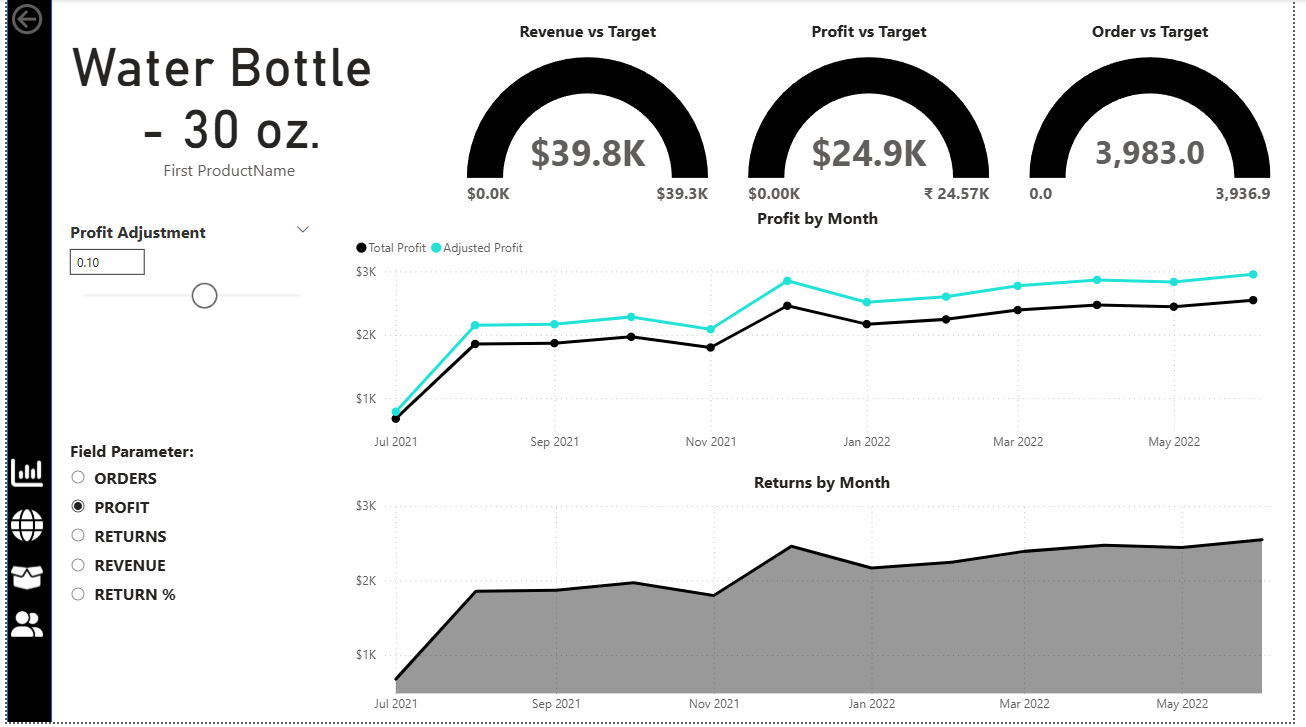

The page's visual inventory and layout, read from the dashboard file:
{"tool":"powerbi","page":{"name":"Product Detail","canvas":[1280,720],"ordinal":2},"visuals":[{"type":"shape","box":[0,0,44.9,720.5],"z":0},{"type":"gauge","title":"Revenue vs Target","fields":{"Y":["Measure Table.Total Revenue"],"MaxValue":["Measure Table.Revenue Target"]},"box":[452.8,19.9,250,206.5],"z":1000},{"type":"actionButton","box":[0,0,100,40],"z":2000},{"type":"gauge","title":"Order vs Target","fields":{"Y":["Measure Table.Total Orders"],"MaxValue":["Measure Table.Order Target"]},"box":[1012.6,19.9,250,206.5],"z":3000},{"type":"gauge","title":"Profit vs Target","fields":{"Y":["Measure Table.Total Profit"],"MaxValue":["Measure Table.Profit Target"]},"box":[732.7,19.9,250,206.5],"z":4000},{"type":"areaChart","title":"Profit by Month","fields":{"Category":["Calendar Lookup.Start of Month"],"Y":["Measure Table.Total Profit","Measure Table.Adjusted Profit"]},"box":[342.1,206.5,929.2,252.5],"z":5000},{"type":"areaChart","title":"Returns by Month","fields":{"Y":["Measure Table.Total Profit"],"Category":["Calendar Lookup.Start of Month"]},"box":[342.1,469,937.9,251.3],"z":6000},{"type":"card","fields":{"Values":["Min(Product Lookup.ProductName)"]},"box":[49.8,11.2,343.3,180.4],"z":7000},{"type":"actionButton","box":[0,451.6,44.8,39.8],"z":8000},{"type":"actionButton","box":[0,503.8,44.8,39.8],"z":9000},{"type":"actionButton","box":[0,556,44.8,39.8],"z":10000},{"type":"actionButton","box":[0,602.1,44.8,39.8],"z":11000},{"type":"slicer","fields":{"Values":["Profit Adjustment.Profit Adjustment"]},"box":[49.8,215.2,263.7,163],"z":12000},{"type":"slicer","fields":{"Values":["Field Parameter.Field Parameter"]},"box":[49.8,432.9,263.7,221.4],"z":13000}]}

Visuals, with their boxes on the page's 1280x720 design canvas (x1, y1, x2, y2). These are canvas units, not pixel positions in the 1306x727 screenshot, which may show the page scaled, cropped or inside an application window:
shape: [left=0, top=0, right=45, bottom=720]
"Revenue vs Target" gauge: [left=453, top=20, right=703, bottom=226]
actionButton: [left=0, top=0, right=100, bottom=40]
"Order vs Target" gauge: [left=1013, top=20, right=1263, bottom=226]
"Profit vs Target" gauge: [left=733, top=20, right=983, bottom=226]
"Profit by Month" areaChart: [left=342, top=206, right=1271, bottom=459]
"Returns by Month" areaChart: [left=342, top=469, right=1280, bottom=720]
card - Min(Product Lookup.ProductName): [left=50, top=11, right=393, bottom=192]
actionButton: [left=0, top=452, right=45, bottom=491]
actionButton: [left=0, top=504, right=45, bottom=544]
actionButton: [left=0, top=556, right=45, bottom=596]
actionButton: [left=0, top=602, right=45, bottom=642]
slicer - Profit Adjustment.Profit Adjustment: [left=50, top=215, right=314, bottom=378]
slicer - Field Parameter.Field Parameter: [left=50, top=433, right=314, bottom=654]
